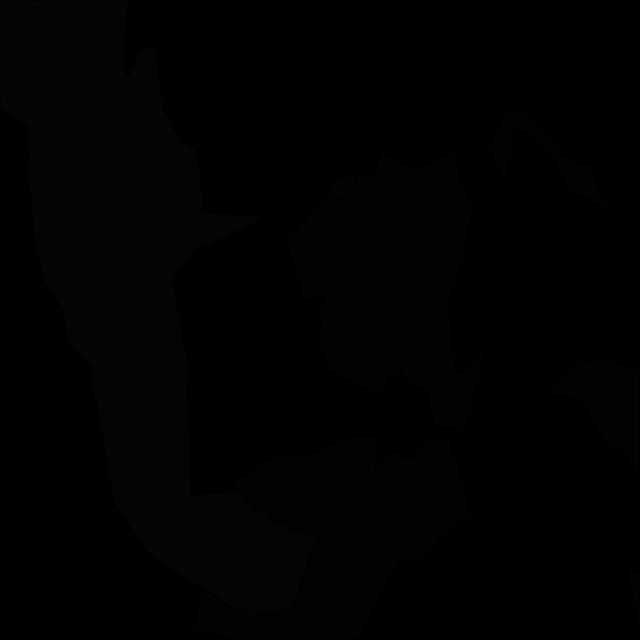cardboard: (194, 434, 470, 639), (286, 151, 486, 433), (490, 108, 608, 211), (551, 358, 639, 480), (319, 285, 397, 396), (628, 566, 640, 639)
metal: (328, 173, 356, 201)
soft_plastic: (24, 0, 315, 615), (0, 0, 35, 126)
